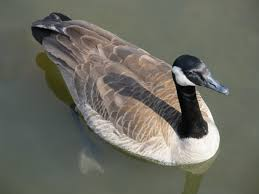goose: (27, 10, 232, 170)
